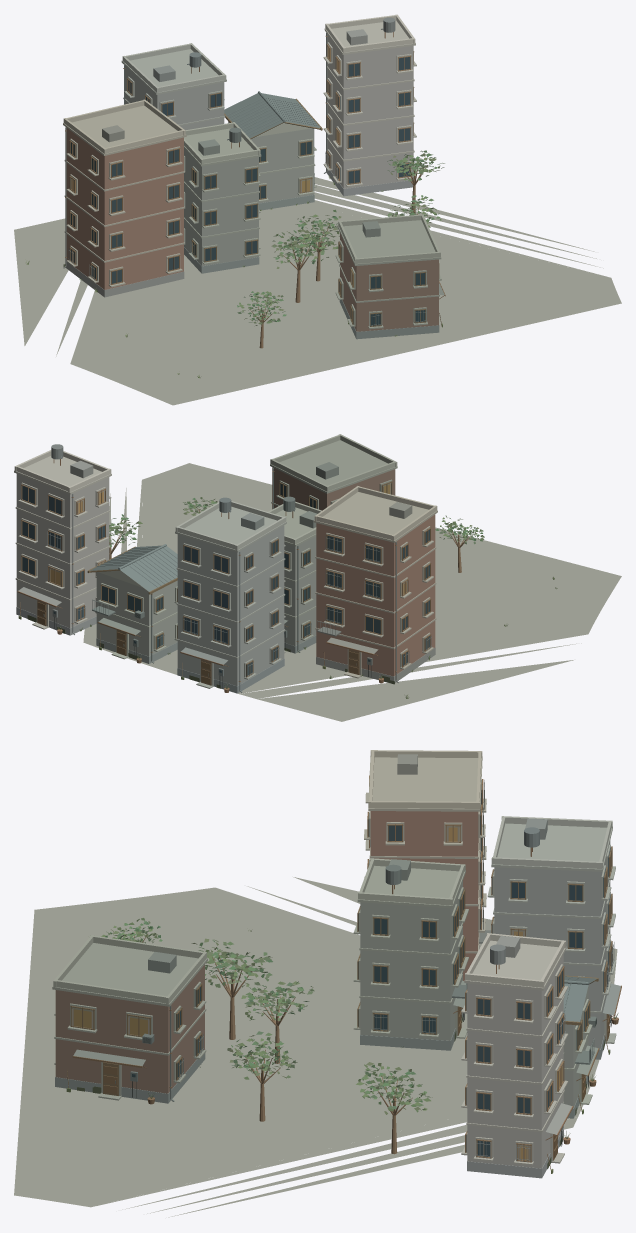
The model's file is street_4_2.glb.
The picture shows the model from 3 angles, top to bottom: view 1: azimuth 30°, elevation 25°; view 2: azimuth 150°, elevation 25°; view 3: azimuth 270°, elevation 25°; orthographic projection. The views are drawn at different scales.
Parts seen in each view (by area): view 1: ground.067, concrete.018, trim.028, brick.032, plaster.028, wood.028, glass.028, leaf.035, graybrick.028, roof_tile.016, roof_metal.028, metal.028; view 2: ground.067, concrete.018, trim.028, brick.032, wood.028, plaster.028, glass.028, metal.028, graybrick.028, roof_metal.028, roof_tile.016, leaf.035 (+1 smaller); view 3: ground.067, trim.028, concrete.018, brick.032, wood.028, plaster.028, leaf.035, glass.028, roof_metal.028, graybrick.028, metal.028, window_warm.027 (+2 smaller).
Boxes of the visible parts, <box> form: ground.067: <box>14,177,621,405</box>; concrete.018: <box>125,34,413,266</box>; trim.028: <box>63,20,441,329</box>; brick.032: <box>66,128,438,331</box>; plaster.028: <box>63,14,440,263</box>; wood.028: <box>69,43,441,348</box>; glass.028: <box>70,57,425,325</box>; leaf.035: <box>237,150,444,325</box>; graybrick.028: <box>65,170,439,339</box>; roof_tile.016: <box>224,91,320,138</box>; roof_metal.028: <box>102,29,444,295</box>; metal.028: <box>63,17,426,326</box>; ground.067: <box>83,463,621,721</box>; concrete.018: <box>16,474,316,685</box>; trim.028: <box>14,440,437,688</box>; brick.032: <box>272,467,435,676</box>; wood.028: <box>20,481,471,685</box>; plaster.028: <box>14,434,437,587</box>; glass.028: <box>22,484,429,676</box>; metal.028: <box>43,444,431,692</box>; graybrick.028: <box>16,607,435,693</box>; roof_metal.028: <box>18,460,412,664</box>; roof_tile.016: <box>89,544,177,591</box>; leaf.035: <box>109,497,484,549</box>; ground.067: <box>14,877,617,1217</box>; trim.028: <box>52,756,616,1165</box>; concrete.018: <box>360,841,610,1168</box>; brick.032: <box>55,811,478,1093</box>; wood.028: <box>67,775,612,1169</box>; plaster.028: <box>53,750,612,1003</box>; leaf.035: <box>101,918,432,1114</box>; glass.028: <box>132,780,610,1156</box>; roof_metal.028: <box>73,754,620,1134</box>; graybrick.028: <box>55,1009,610,1178</box>; metal.028: <box>115,780,614,1162</box>; window_warm.027: <box>73,827,562,1160</box>.
Size of the model in its own units: 48.52 by 14.22 by 36.44.
